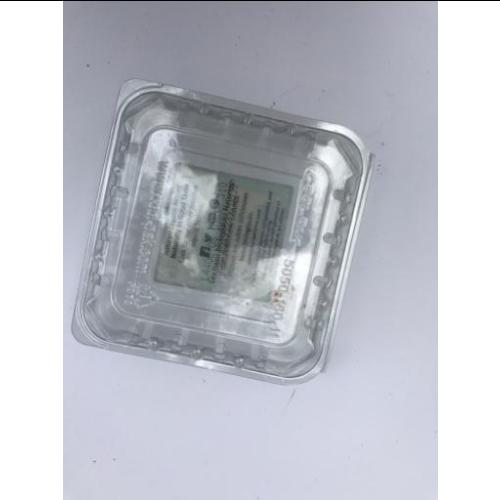plastic: (84, 85, 357, 386)
